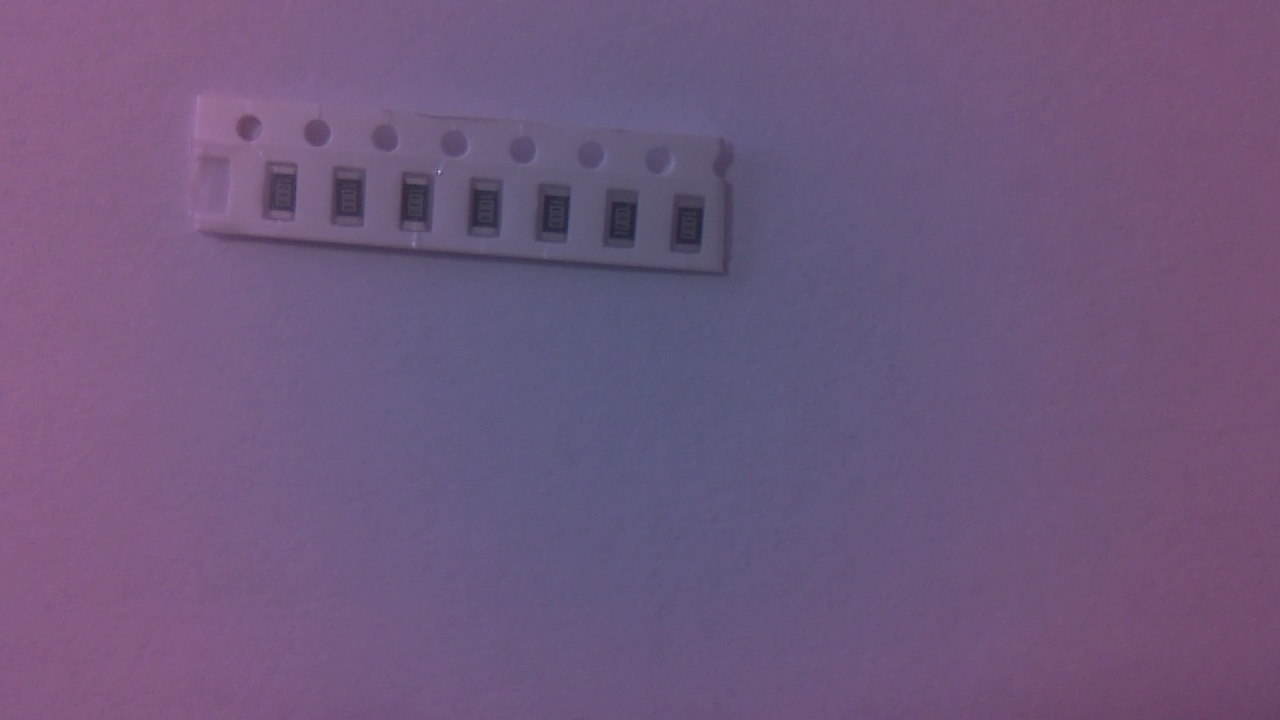Resistor: (539, 187, 577, 249), (677, 194, 711, 260), (335, 172, 371, 228), (474, 181, 507, 242), (407, 178, 439, 239), (270, 168, 304, 225), (613, 196, 641, 252)
